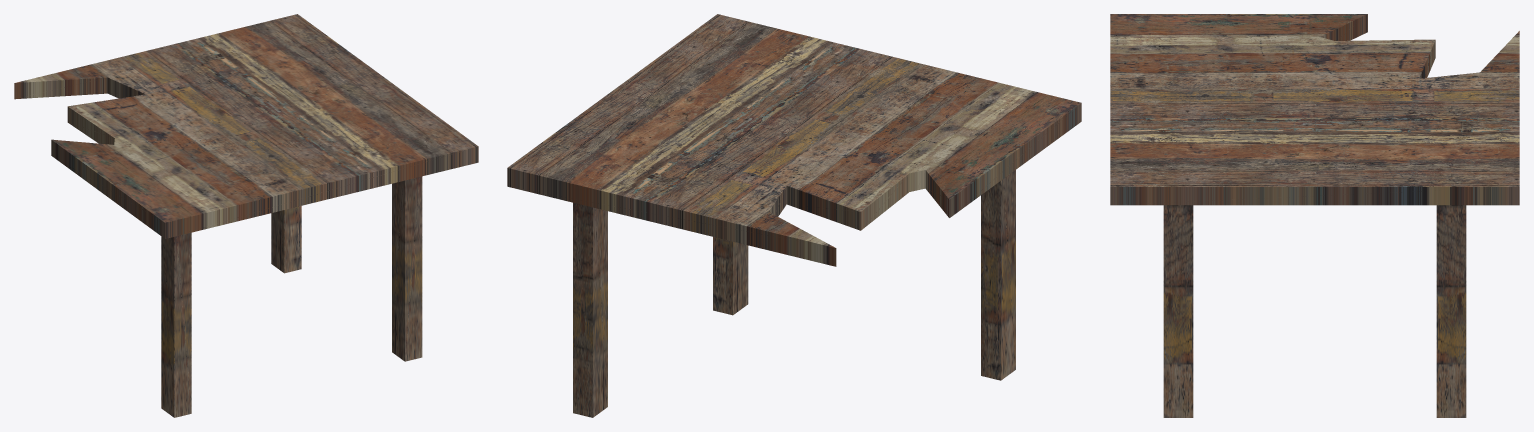
File: Table.fbx
3 renders of one model, left to right at view 1: azimuth 30°, elevation 25°; view 2: azimuth 150°, elevation 25°; view 3: azimuth 270°, elevation 25°, orthographic. The views are drawn at different scales.
Visible parts, largest first — view 1: Table, Cube; view 2: Table, Cube; view 3: Table, Cube.
Boxes of the visible parts, bbox=[...] form: Table: bbox=[14, 14, 478, 238]; Cube: bbox=[161, 176, 422, 417]; Table: bbox=[507, 14, 1081, 266]; Cube: bbox=[573, 170, 1015, 417]; Table: bbox=[1110, 14, 1519, 205]; Cube: bbox=[1163, 205, 1466, 417].
Size of the model in its own units: 99.36 by 66.74 by 99.36.
